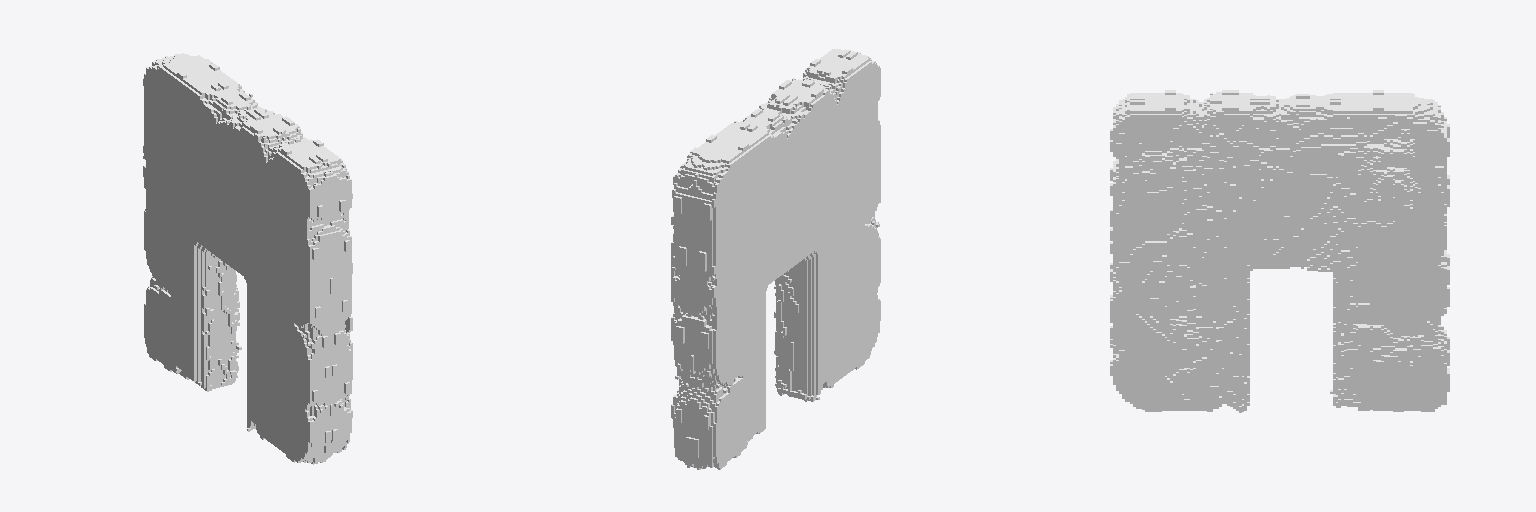
The model's file is forest1.3-8.obj.
3 renders of one model, left to right at view 1: azimuth 30°, elevation 25°; view 2: azimuth 150°, elevation 25°; view 3: azimuth 270°, elevation 25°, orthographic.
Parts seen in each view (by area): view 1: object 1; view 2: object 1; view 3: object 1.
Part boxes in pixels (bbox=[...]): object 1: bbox=[143, 53, 352, 464]; object 1: bbox=[671, 49, 880, 469]; object 1: bbox=[1110, 90, 1449, 412].
Size of the model in its own units: 2.4 by 11.8 by 11.9.